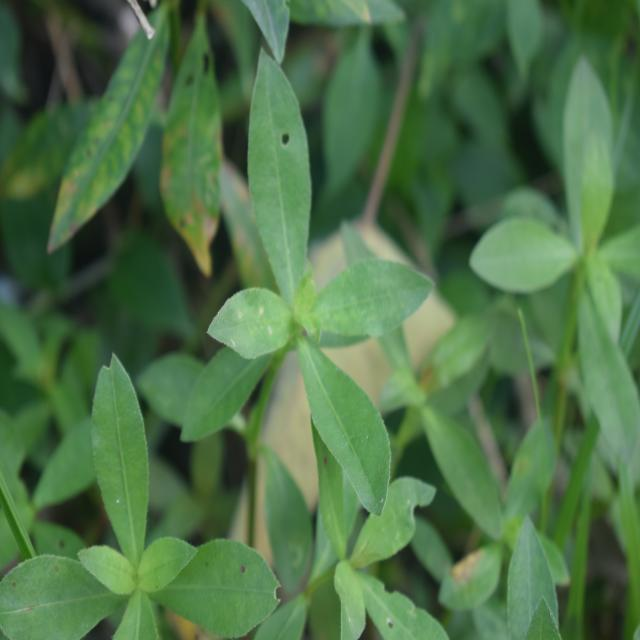Alligatorweed: (197, 54, 442, 518), (0, 361, 278, 640)
